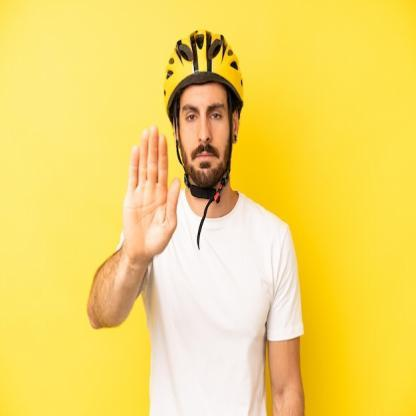stop: (121, 122, 182, 261)
